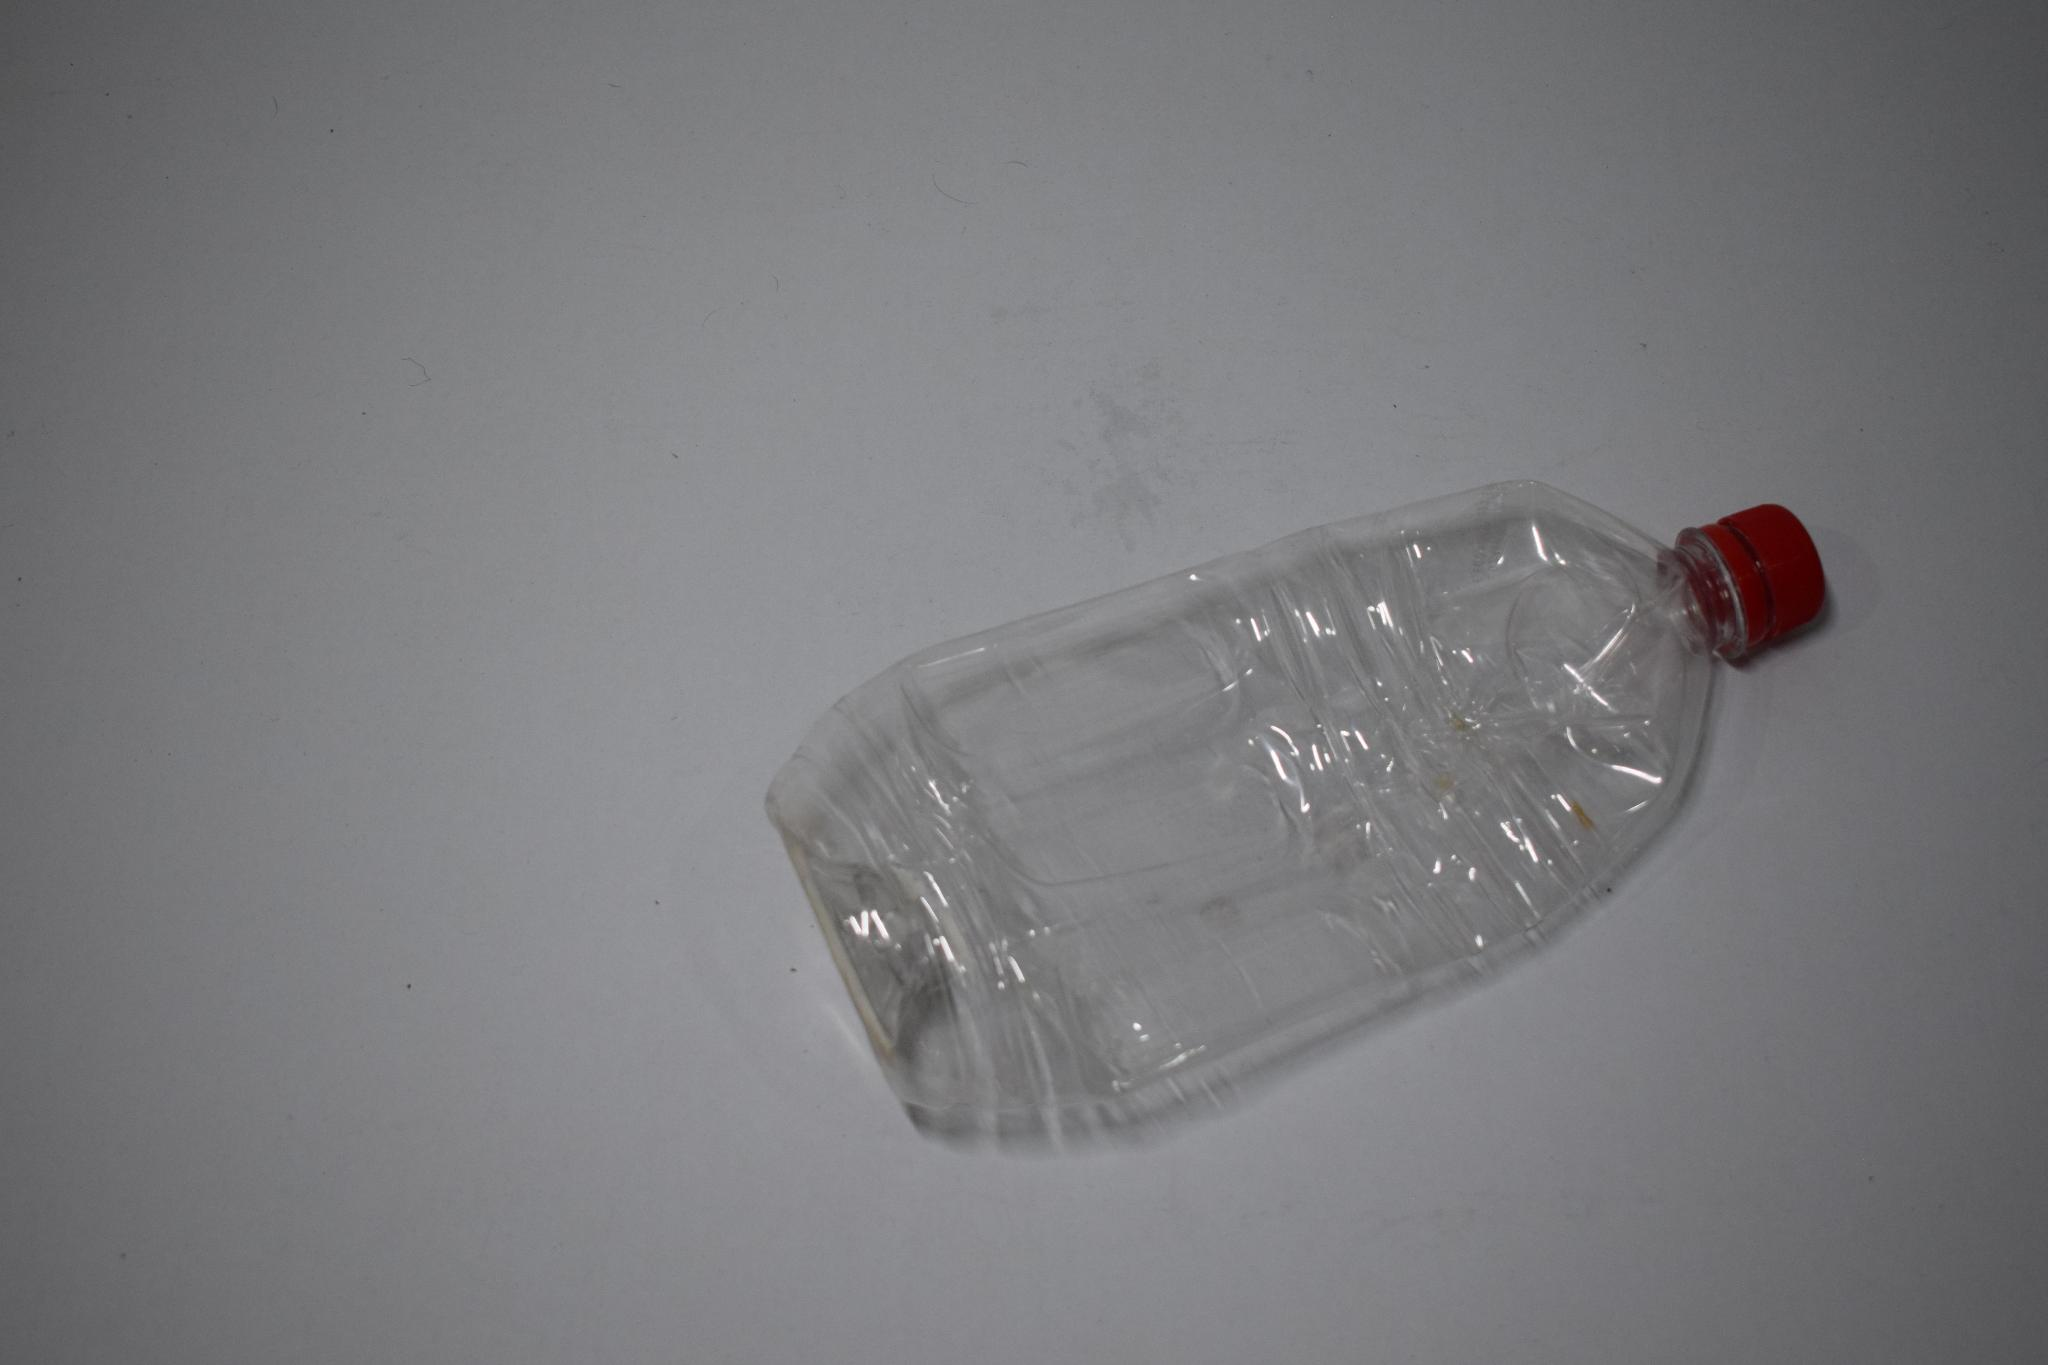bottle: (754, 442, 1839, 1191)
